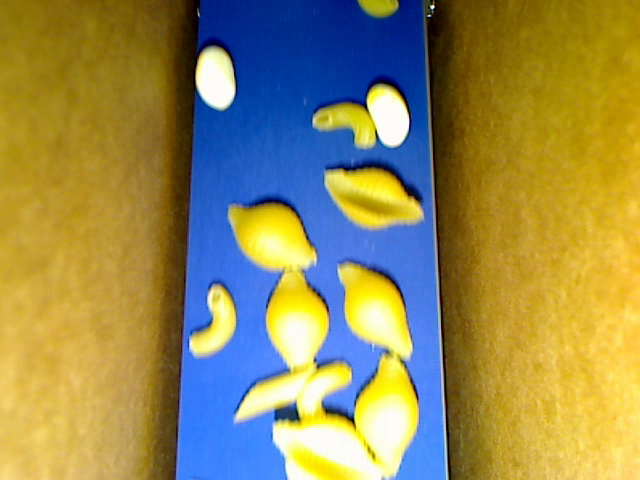elbow: (189, 282, 236, 359), (297, 361, 353, 421), (311, 102, 377, 149), (357, 1, 398, 19)
penne: (234, 364, 317, 421)
shell: (352, 351, 420, 479), (336, 261, 413, 359), (273, 415, 381, 479), (265, 266, 329, 371), (324, 166, 424, 230), (227, 201, 317, 271)
